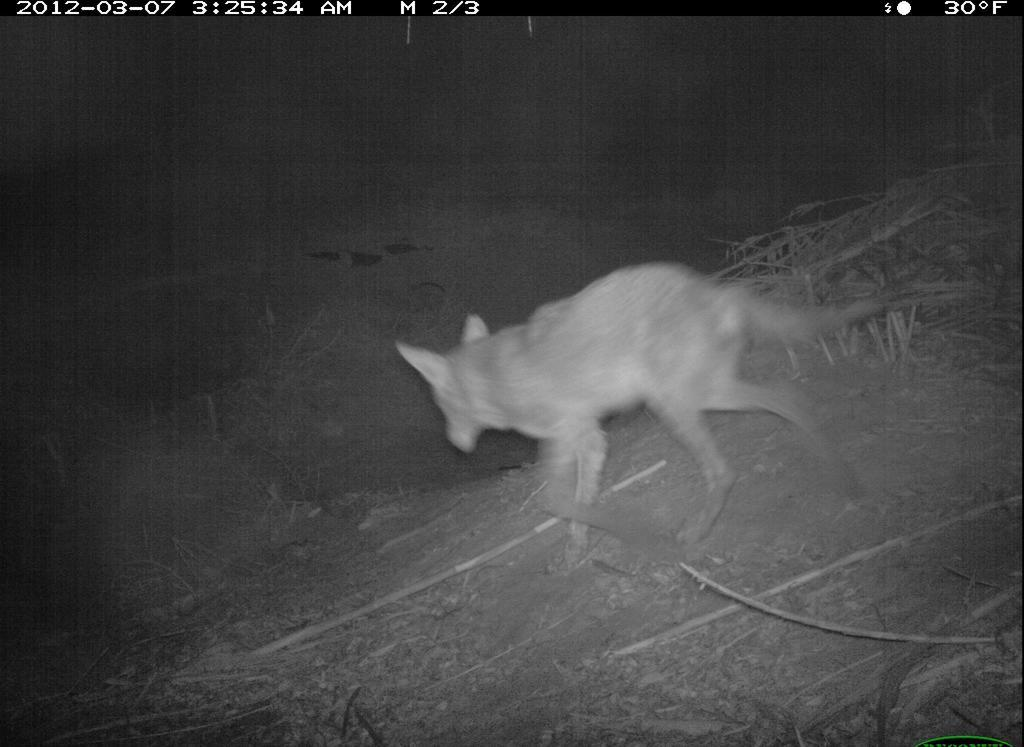coyote: (388, 248, 889, 569)
